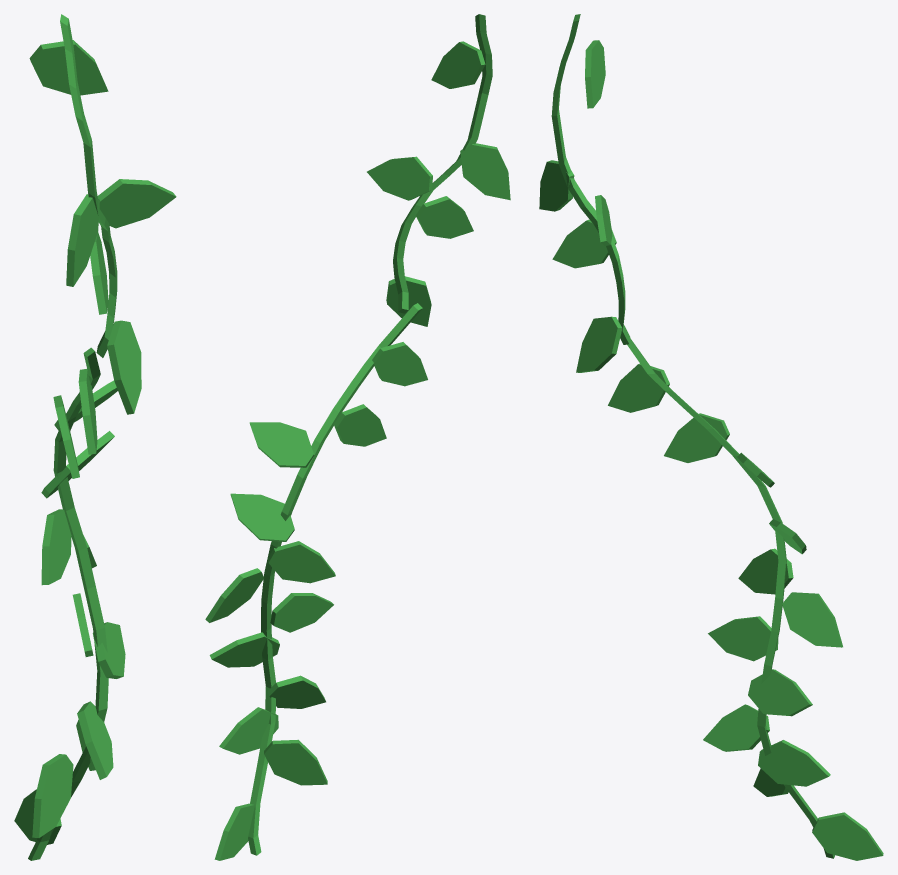
The model's file is vine.glb.
3 renders of one model, left to right at view 1: azimuth 30°, elevation 25°; view 2: azimuth 150°, elevation 25°; view 3: azimuth 270°, elevation 25°, orthographic. The views are drawn at different scales.
Parts seen in each view (by area): view 1: group51903998, group1000032667, group626339976, group165171858, group373134139, group72674498, group1768433317, group2080409919, group583264627, group1200361725, group1902627118, group629312769 (+5 smaller); view 2: group51903998, group1000032667, group44062166, group767204966, group1768433317, group373134139, group165171858, group2080409919, group1902627118, group626339976, group629312769, group1014781026 (+7 smaller); view 3: group51903998, group1000032667, group1796107810, group1142761681, group1427187714, group1200361725, group1014781026, group1746488289, group583264627, group1902627118, group72674498, group629312769 (+3 smaller).
Boxes of the visible parts, x1,y1,x2,y2 form: group51903998: [28, 347, 108, 860]; group1000032667: [60, 14, 117, 357]; group626339976: [29, 40, 108, 95]; group165171858: [97, 179, 176, 228]; group373134139: [32, 754, 73, 837]; group72674498: [107, 320, 141, 414]; group1768433317: [66, 194, 99, 286]; group2080409919: [41, 509, 71, 585]; group583264627: [77, 701, 113, 779]; group1200361725: [92, 622, 125, 678]; group1902627118: [78, 369, 97, 454]; group629312769: [90, 232, 108, 314]; group51903998: [248, 303, 422, 855]; group1000032667: [393, 14, 492, 313]; group44062166: [249, 422, 314, 467]; group767204966: [230, 493, 294, 541]; group1768433317: [460, 143, 510, 200]; group373134139: [264, 739, 327, 785]; group165171858: [367, 156, 432, 200]; group2080409919: [267, 541, 335, 583]; group1902627118: [372, 342, 427, 386]; group626339976: [431, 41, 485, 88]; group629312769: [415, 196, 473, 238]; group1014781026: [270, 593, 333, 632]; group51903998: [627, 338, 834, 858]; group1000032667: [551, 14, 630, 344]; group1796107810: [782, 592, 842, 647]; group1142761681: [812, 812, 883, 860]; group1427187714: [758, 740, 830, 786]; group1200361725: [748, 669, 812, 716]; group1014781026: [708, 616, 778, 661]; group1746488289: [664, 413, 729, 462]; group583264627: [703, 704, 769, 751]; group1902627118: [608, 363, 669, 412]; group72674498: [576, 316, 622, 372]; group629312769: [552, 219, 616, 268].
Size of the model in its own units: 0.1861 by 0.7982 by 0.314.
